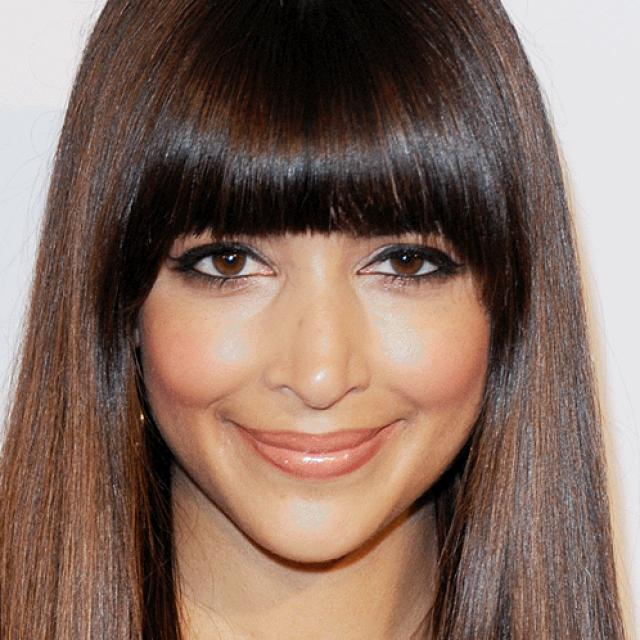Normal: (132, 227, 491, 569)
